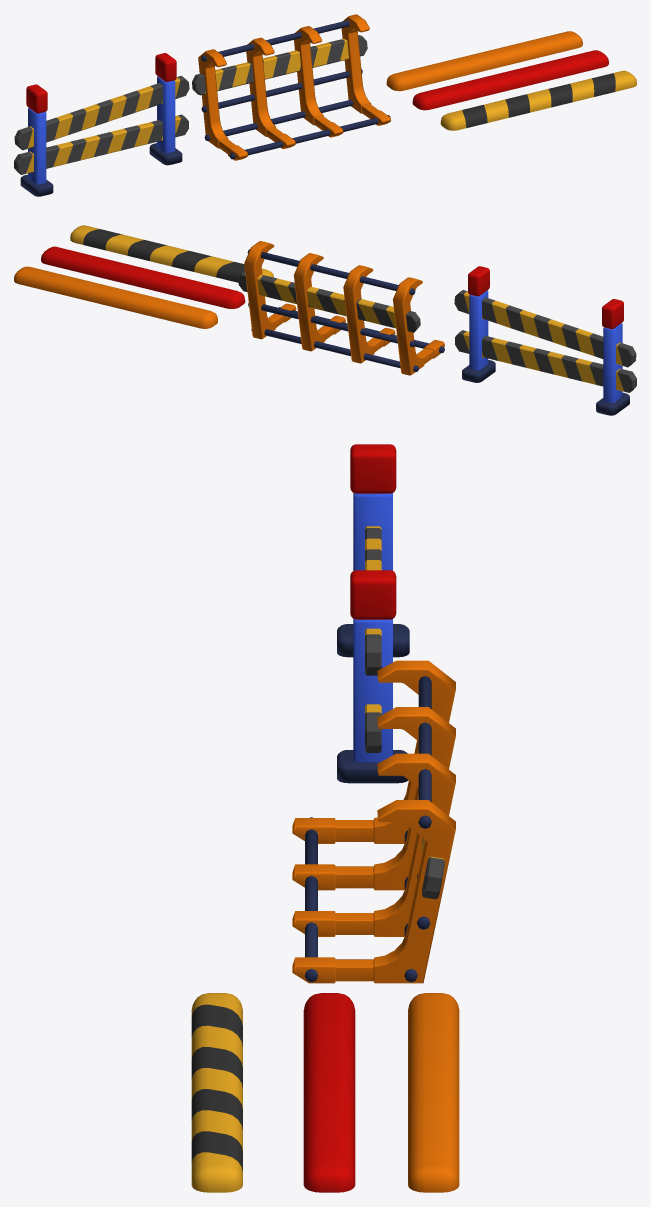
File: obstacle.fbx
The picture shows the model from 3 angles, top to bottom: view 1: azimuth 30°, elevation 25°; view 2: azimuth 150°, elevation 25°; view 3: azimuth 270°, elevation 25°; orthographic projection. The views are drawn at different scales.
Parts seen in each view (by area): view 1: obstacle.001, obstacle, obstacle.004, obstacle.003, obstacle.002; view 2: obstacle.001, obstacle, obstacle.003, obstacle.002, obstacle.004; view 3: obstacle.001, obstacle, obstacle.003, obstacle.002, obstacle.004.
Boxes of the visible parts, x1,y1,x2,y2 form: obstacle.001: (192, 14, 390, 160); obstacle: (14, 53, 189, 196); obstacle.004: (440, 70, 636, 130); obstacle.003: (412, 50, 608, 110); obstacle.002: (386, 31, 582, 91); obstacle.001: (238, 241, 444, 375); obstacle: (454, 266, 636, 415); obstacle.003: (41, 246, 245, 308); obstacle.002: (14, 266, 217, 328); obstacle.004: (70, 225, 273, 282); obstacle.001: (292, 660, 455, 983); obstacle: (337, 444, 409, 783); obstacle.003: (303, 993, 355, 1192); obstacle.002: (408, 993, 459, 1192); obstacle.004: (191, 993, 242, 1192).
Bounding box in the file's own units: 9.34 × 1.62 × 1.87.
